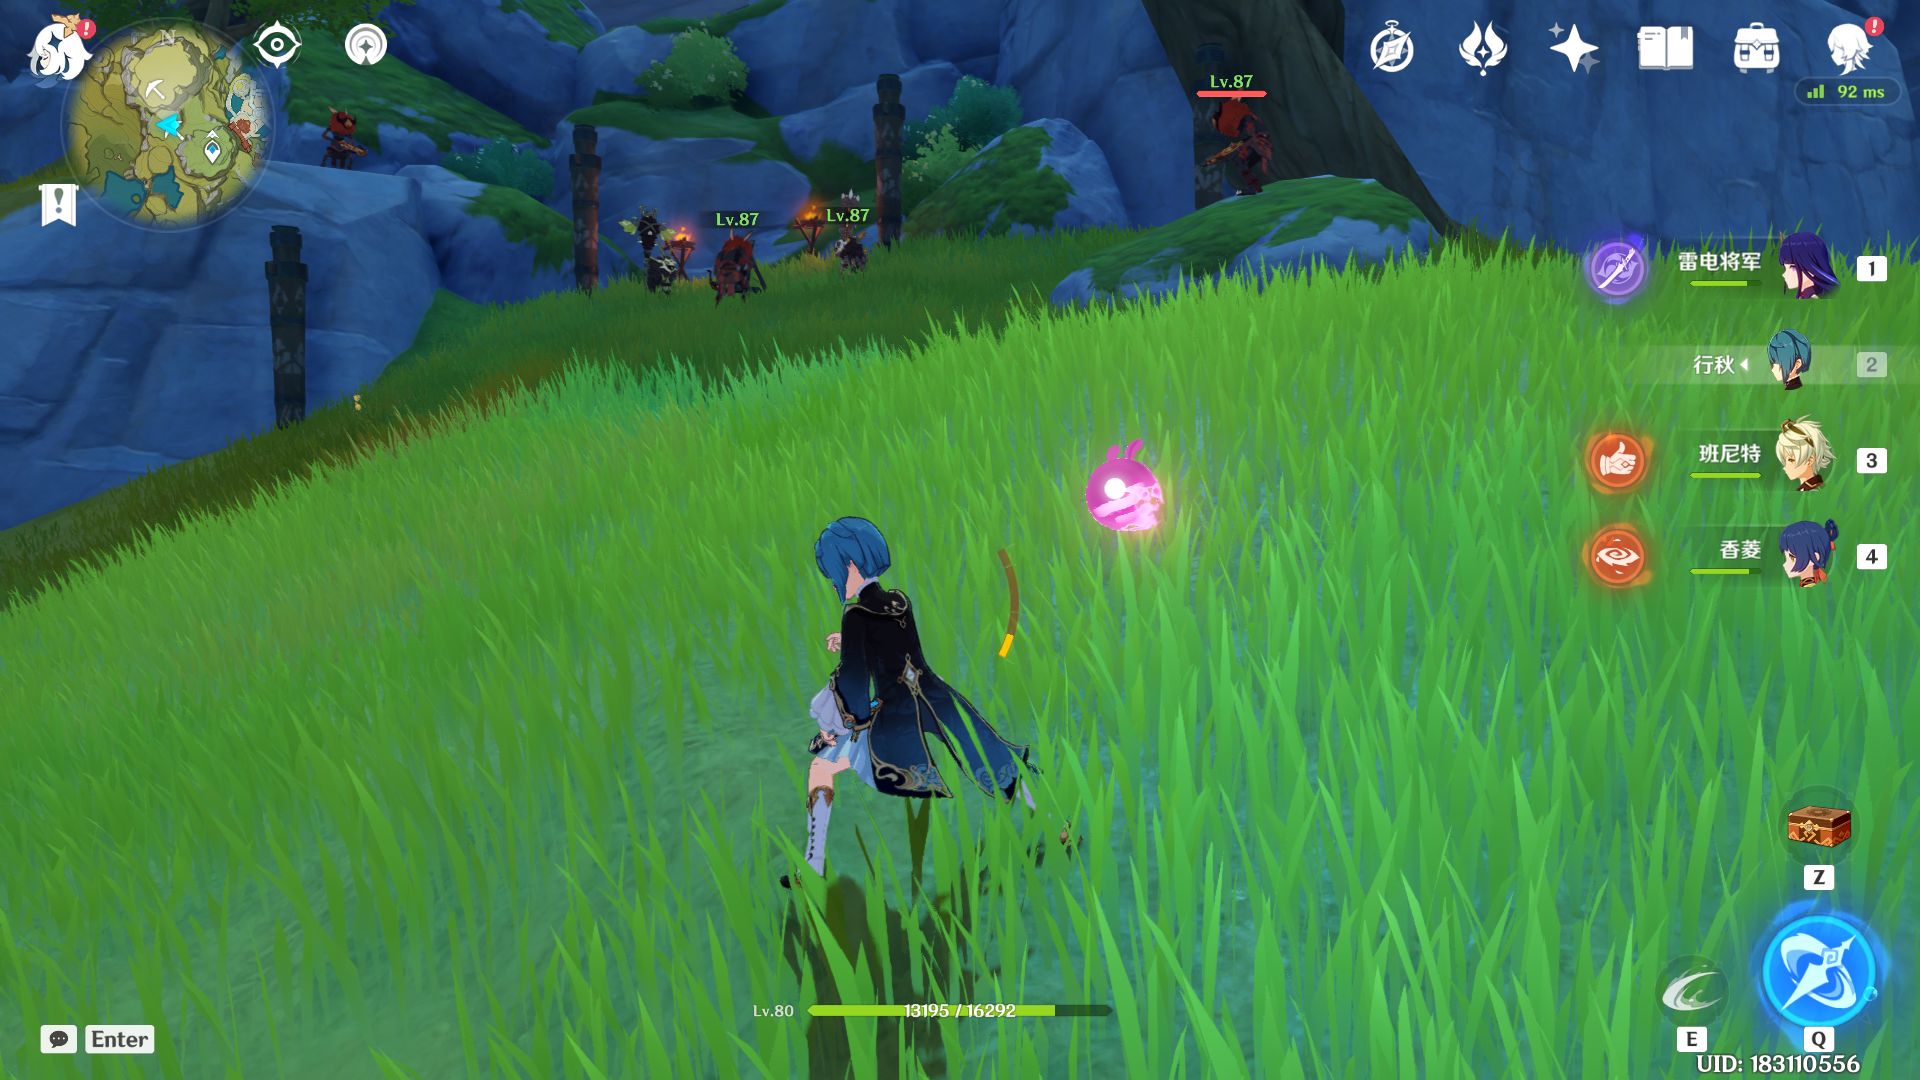character: (655, 462, 1040, 953)
hili: (1159, 82, 1284, 214), (702, 208, 791, 314), (633, 185, 691, 330), (808, 219, 905, 303), (301, 92, 368, 181)
